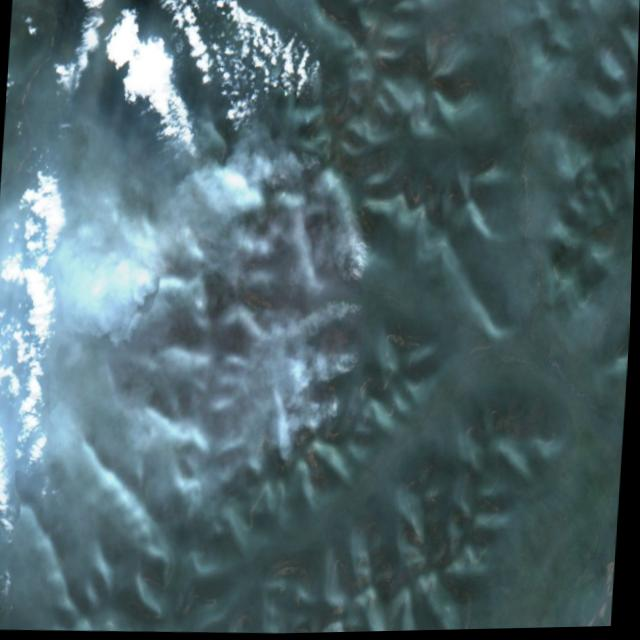fire: (288, 285, 376, 432), (319, 186, 391, 279), (233, 132, 341, 186)
